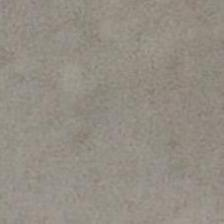Non_Crack: (34, 41, 179, 210)
